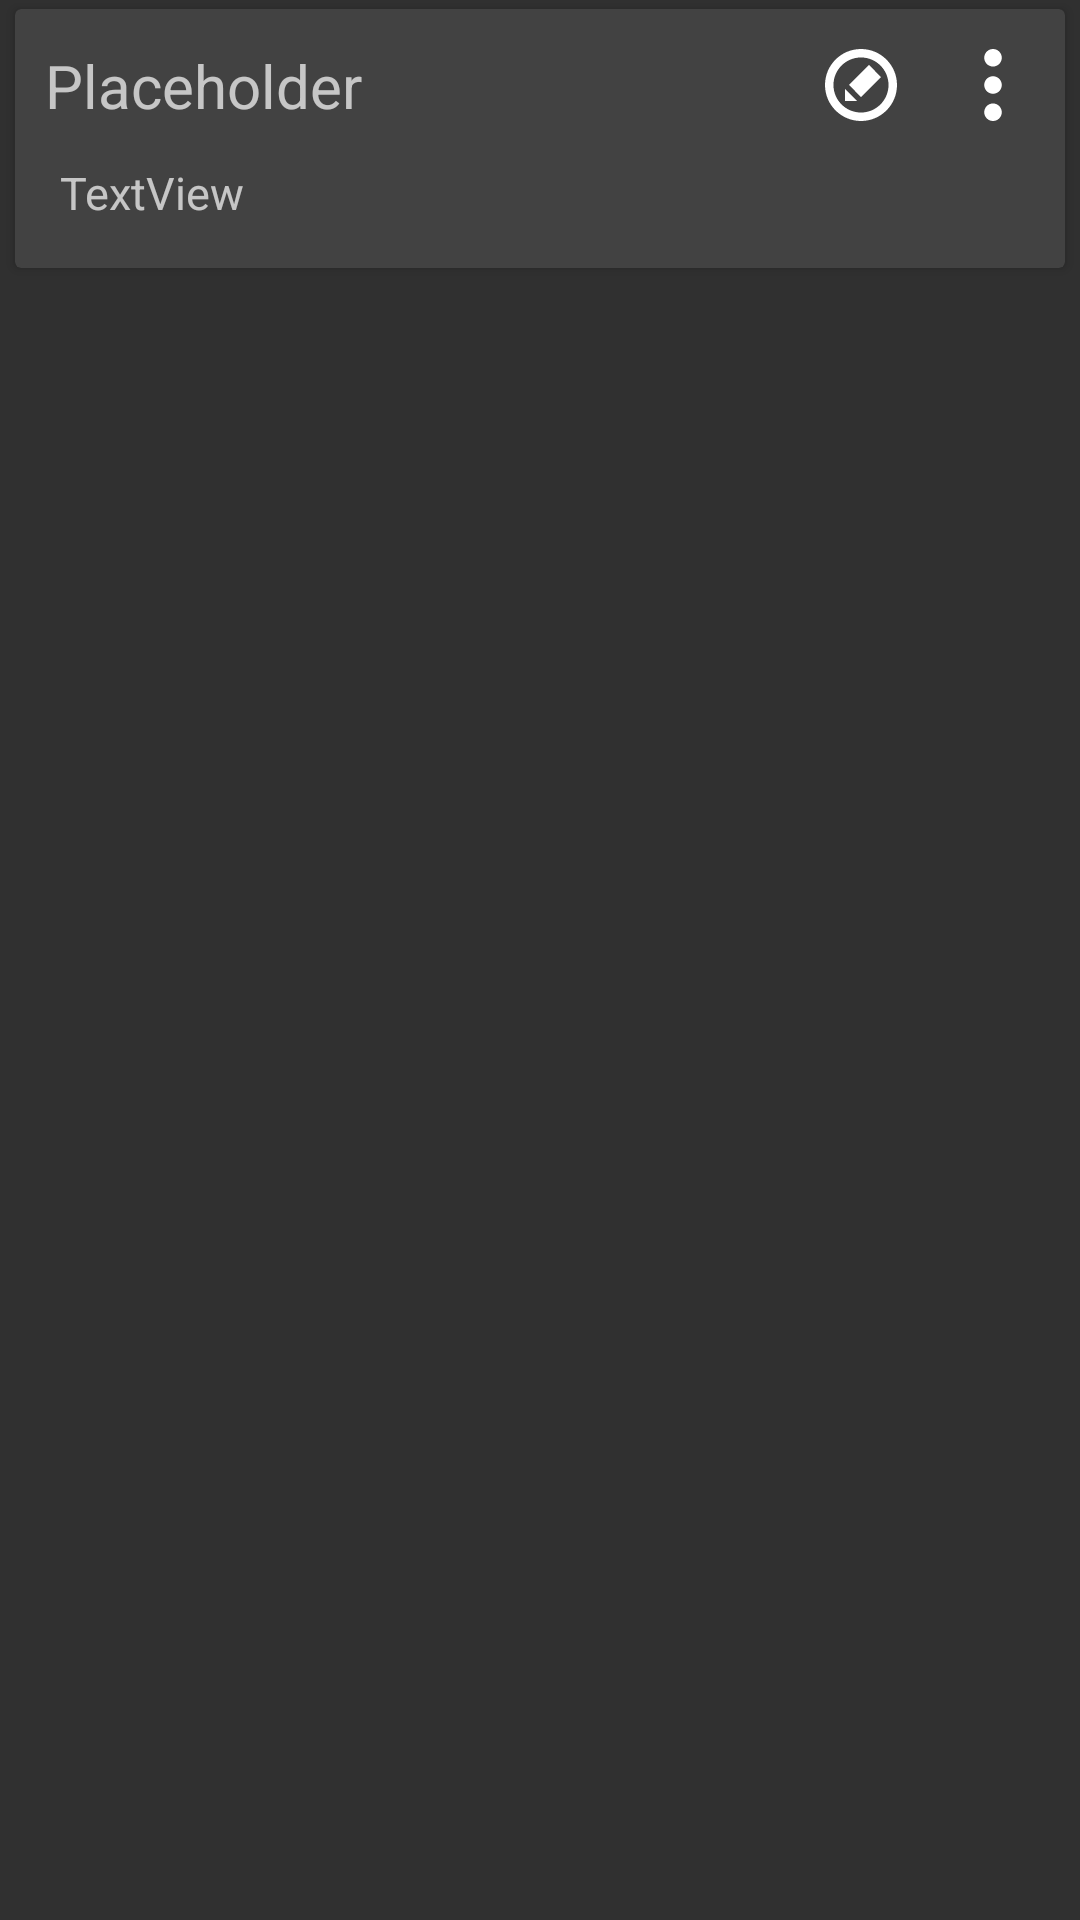

Icon bounding boxes for this 1080*1920 phone screenshot, format (x1, y1, x2, y2):
edit: (825, 49, 897, 121)
ellipsis: (984, 49, 1002, 121)
